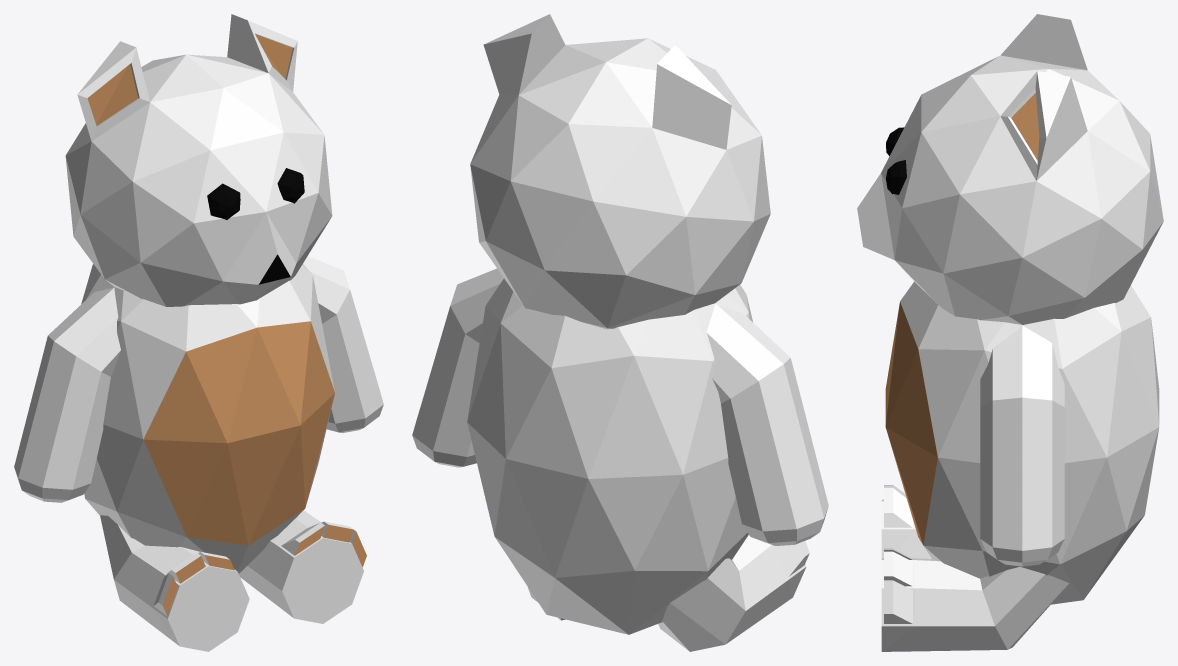
Rendered from TeddyBear.fbx.
3 renders of one model, left to right at view 1: azimuth 30°, elevation 25°; view 2: azimuth 150°, elevation 25°; view 3: azimuth 270°, elevation 25°, orthographic. The views are drawn at different scales.
Visible parts, largest first — view 1: Icosphere; view 2: Icosphere; view 3: Icosphere.
Part boxes in pixels (<box>): Icosphere: <box>14,14,383,651</box>; Icosphere: <box>412,14,828,651</box>; Icosphere: <box>857,14,1163,651</box>.
Size of the model in its own units: 34.39 by 50 by 24.03.
